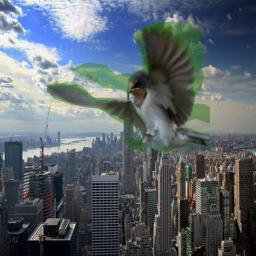Swallow: (47, 22, 210, 152)
